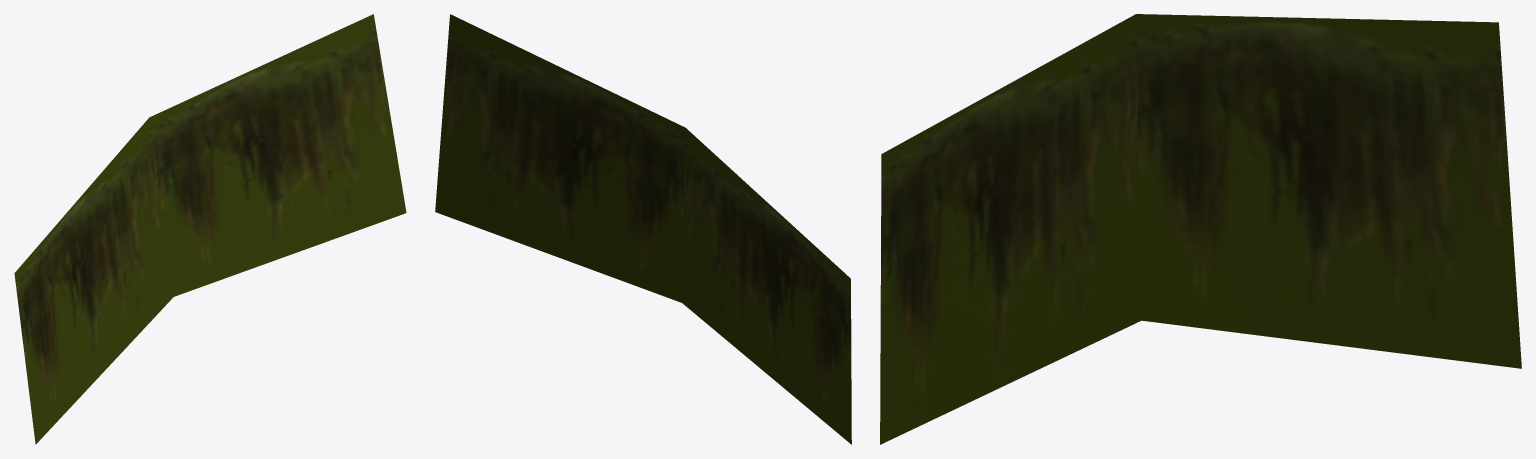
File: moss_b.fbx
The picture shows the model from 3 angles, left to right: view 1: azimuth 30°, elevation 25°; view 2: azimuth 150°, elevation 25°; view 3: azimuth 330°, elevation 25°; orthographic projection. The views are drawn at different scales.
Parts seen in each view (by area): view 1: moss_b; view 2: moss_b; view 3: moss_b.
Boxes of the visible parts, bbox=[...] form: moss_b: bbox=[14, 14, 406, 444]; moss_b: bbox=[435, 14, 851, 444]; moss_b: bbox=[880, 14, 1521, 444].
Size of the model in its own units: 2005 by 1619 by 186.
Materials: 1 (1 with a texture image).
